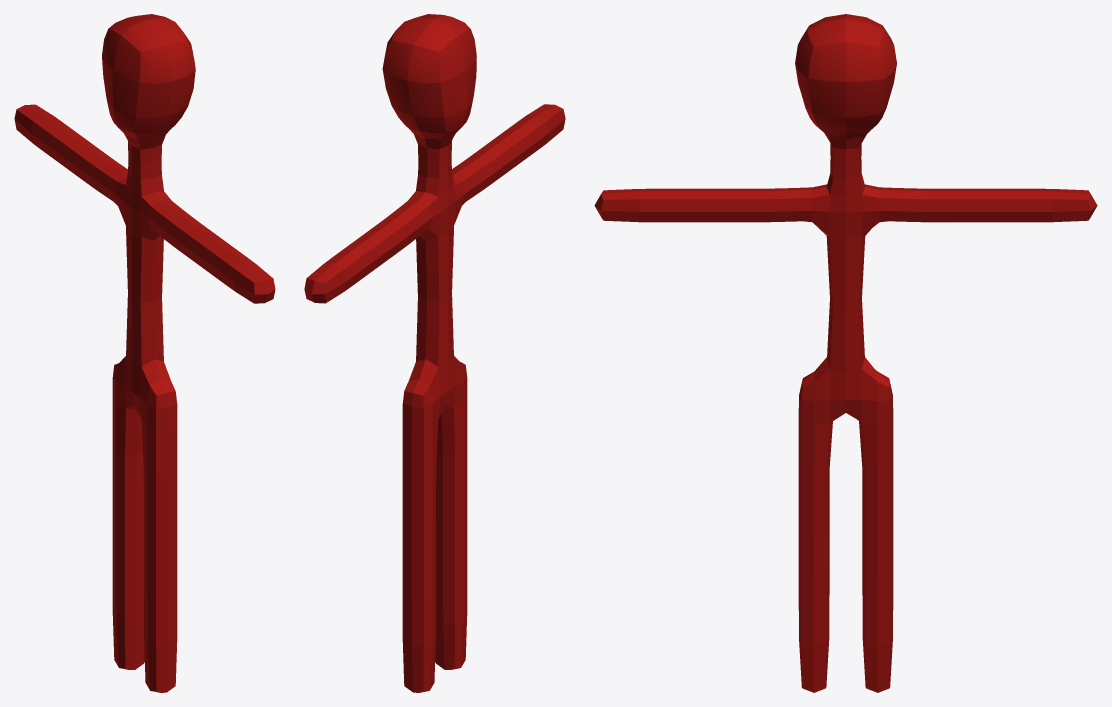
The model's file is Stickman.obj.
The picture shows the model from 3 angles, left to right: view 1: azimuth 30°, elevation 25°; view 2: azimuth 150°, elevation 25°; view 3: azimuth 270°, elevation 25°; orthographic projection. The views are drawn at different scales.
Visible parts, largest first — view 1: Cube.001; view 2: Cube.001; view 3: Cube.001.
Boxes of the visible parts, x1,y1,x2,y2 form: Cube.001: [14, 14, 275, 692]; Cube.001: [304, 14, 565, 692]; Cube.001: [594, 14, 1097, 692].
Size of the model in its own units: 0.4422 by 3.75 by 2.54.
